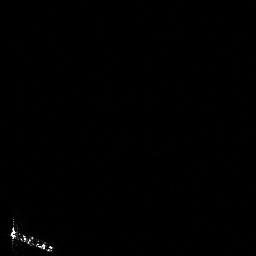ship: (9, 217, 55, 253)
